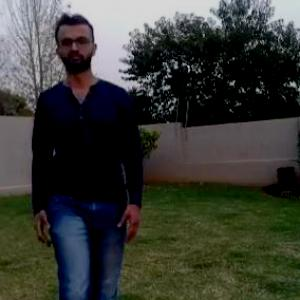follow: (46, 28, 136, 299)
